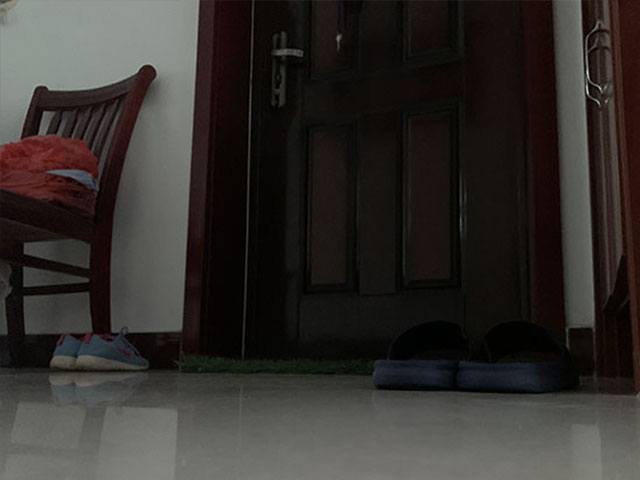carpet: (171, 349, 379, 375)
slippers: (458, 318, 578, 390), (371, 317, 468, 393)
stool: (1, 63, 158, 371)
